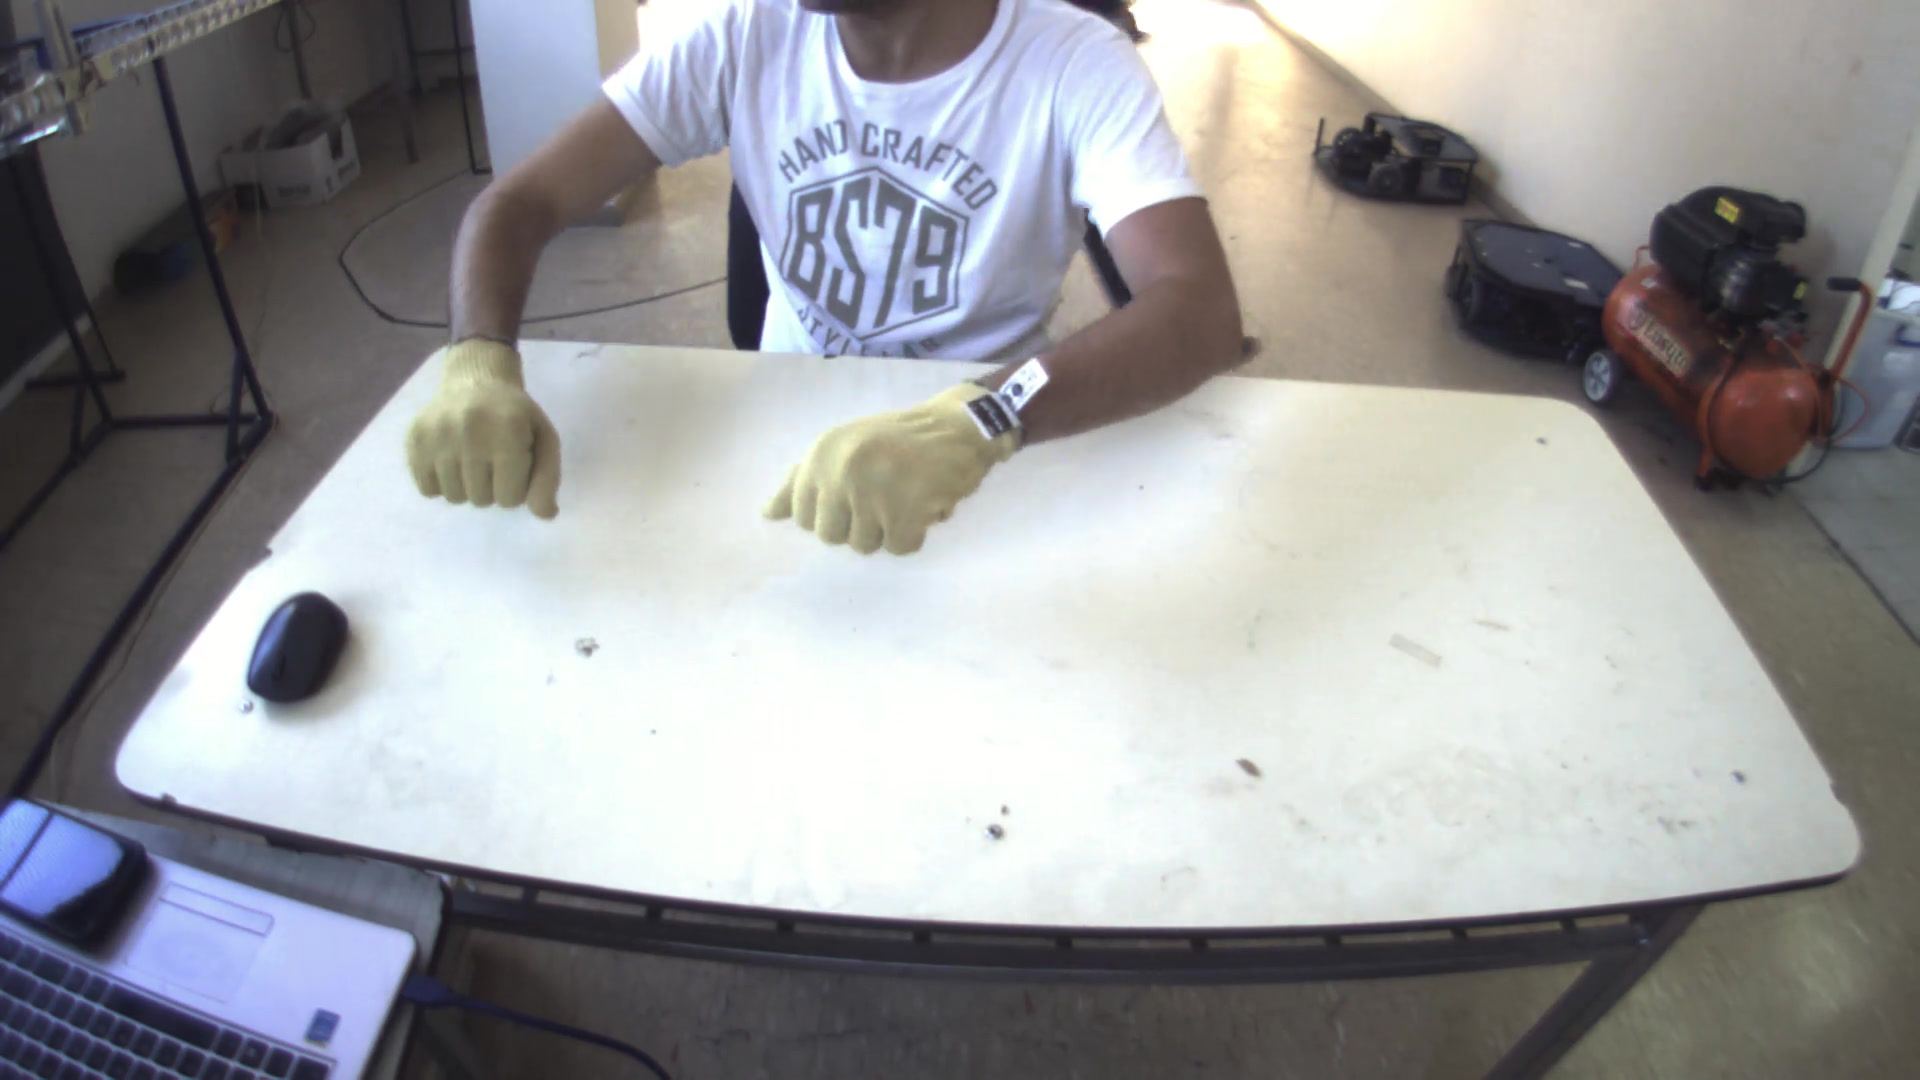hand: (758, 367, 1033, 562), (385, 322, 562, 518)
